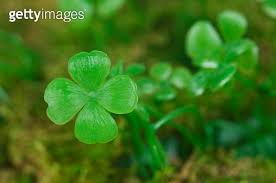4-clover: (45, 53, 137, 146)
